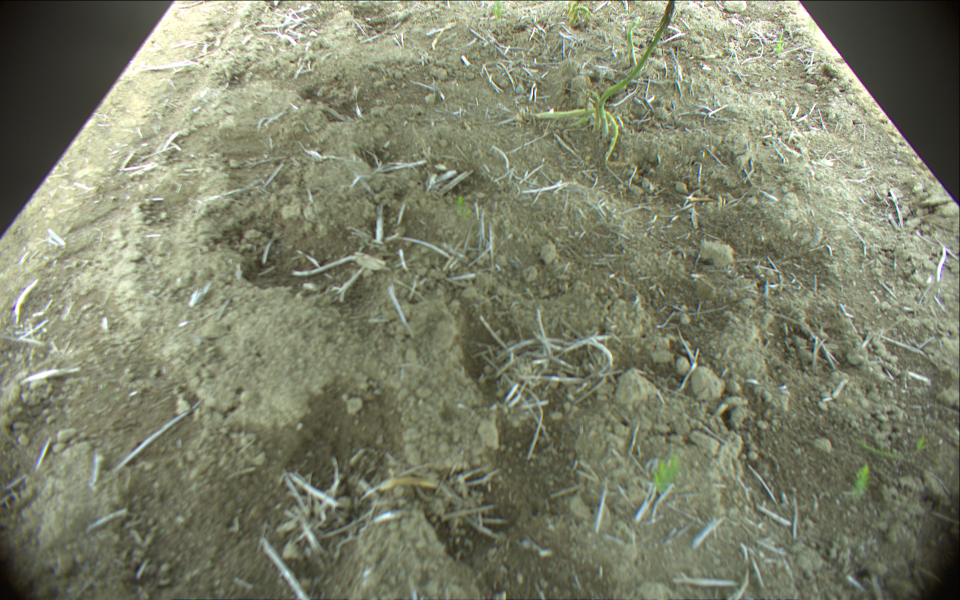aspa: (600, 1, 677, 138), (533, 108, 621, 162), (626, 13, 646, 68), (588, 90, 605, 135), (570, 1, 588, 26)
